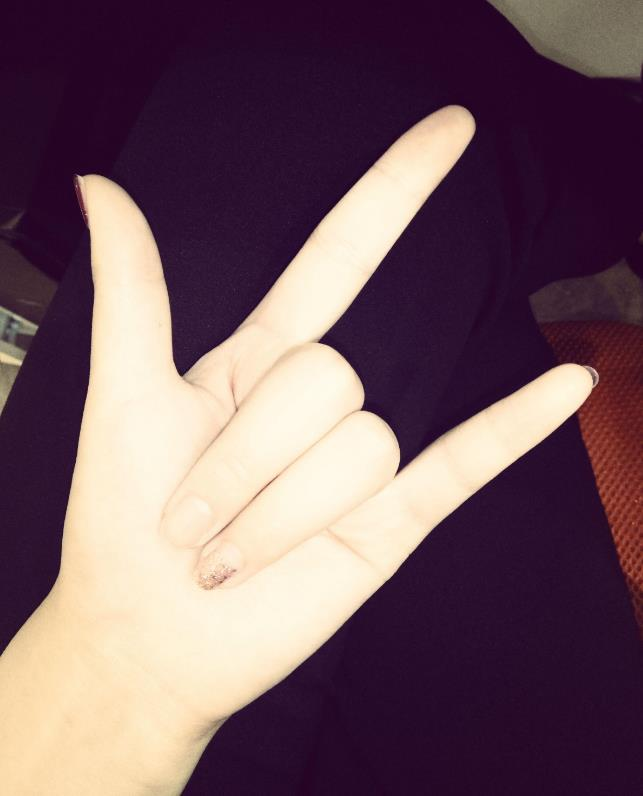back: (48, 100, 598, 633)
